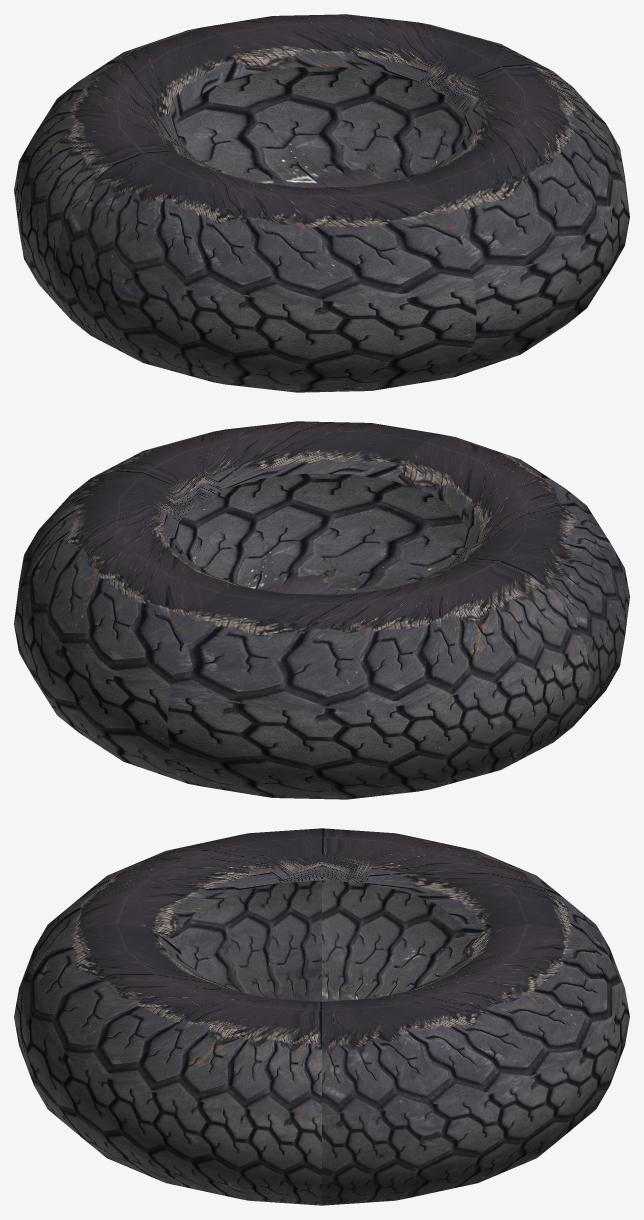
The model's file is tire.fbx.
3 views of the same model, one above another, from view 1: azimuth 30°, elevation 25°; view 2: azimuth 150°, elevation 25°; view 3: azimuth 270°, elevation 25° (orthographic).
Visible parts, largest first — view 1: pTorus1; view 2: pTorus1; view 3: pTorus1.
Boxes of the visible parts, x1,y1,x2,y2 form: pTorus1: (14,14,629,392); pTorus1: (14,421,629,799); pTorus1: (14,828,629,1205).
Size of the model in its own units: 3.94 by 1.31 by 3.94.
